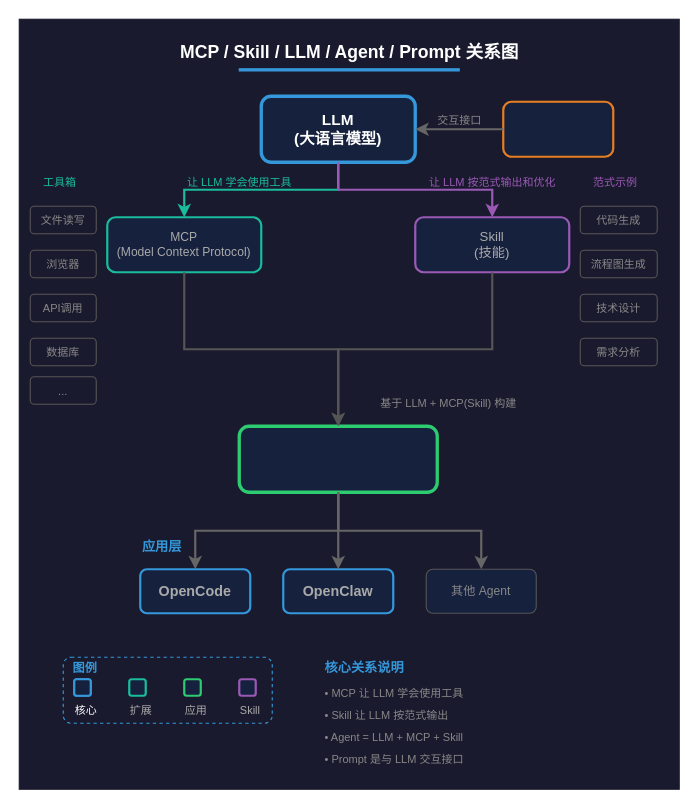
Image size: 699x809. Some labels were removed from this diagram. The box of each missing label's shape, as (x1, y1, x2, y2) in pixels:
Agent (智能代理): (237, 424, 438, 493)
Prompt (提示词): (502, 100, 614, 157)
